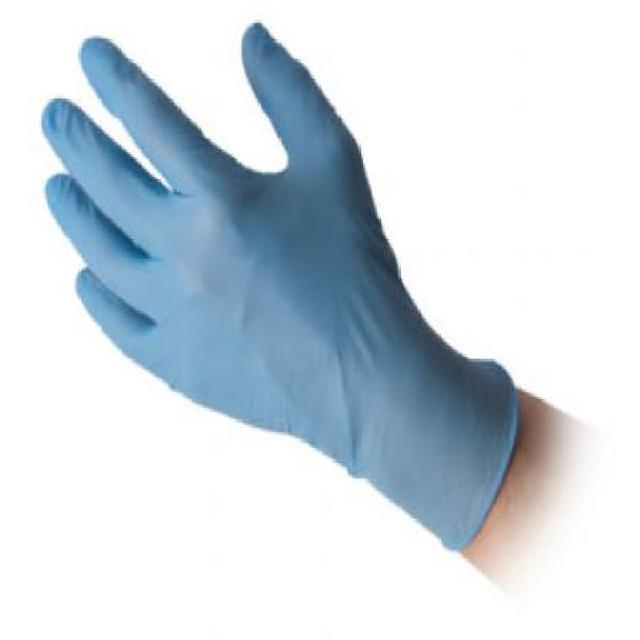gloved_hand: (43, 12, 520, 576)
